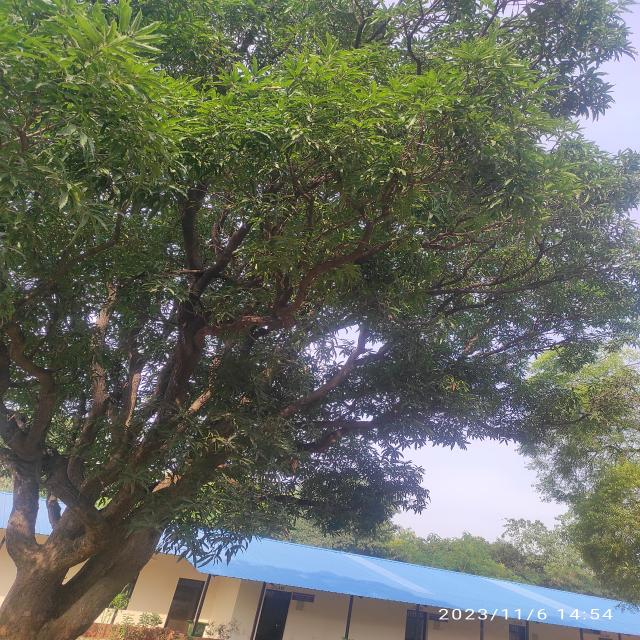Mango Tree: (1, 1, 519, 528)
Neem Tree: (521, 339, 640, 564)
